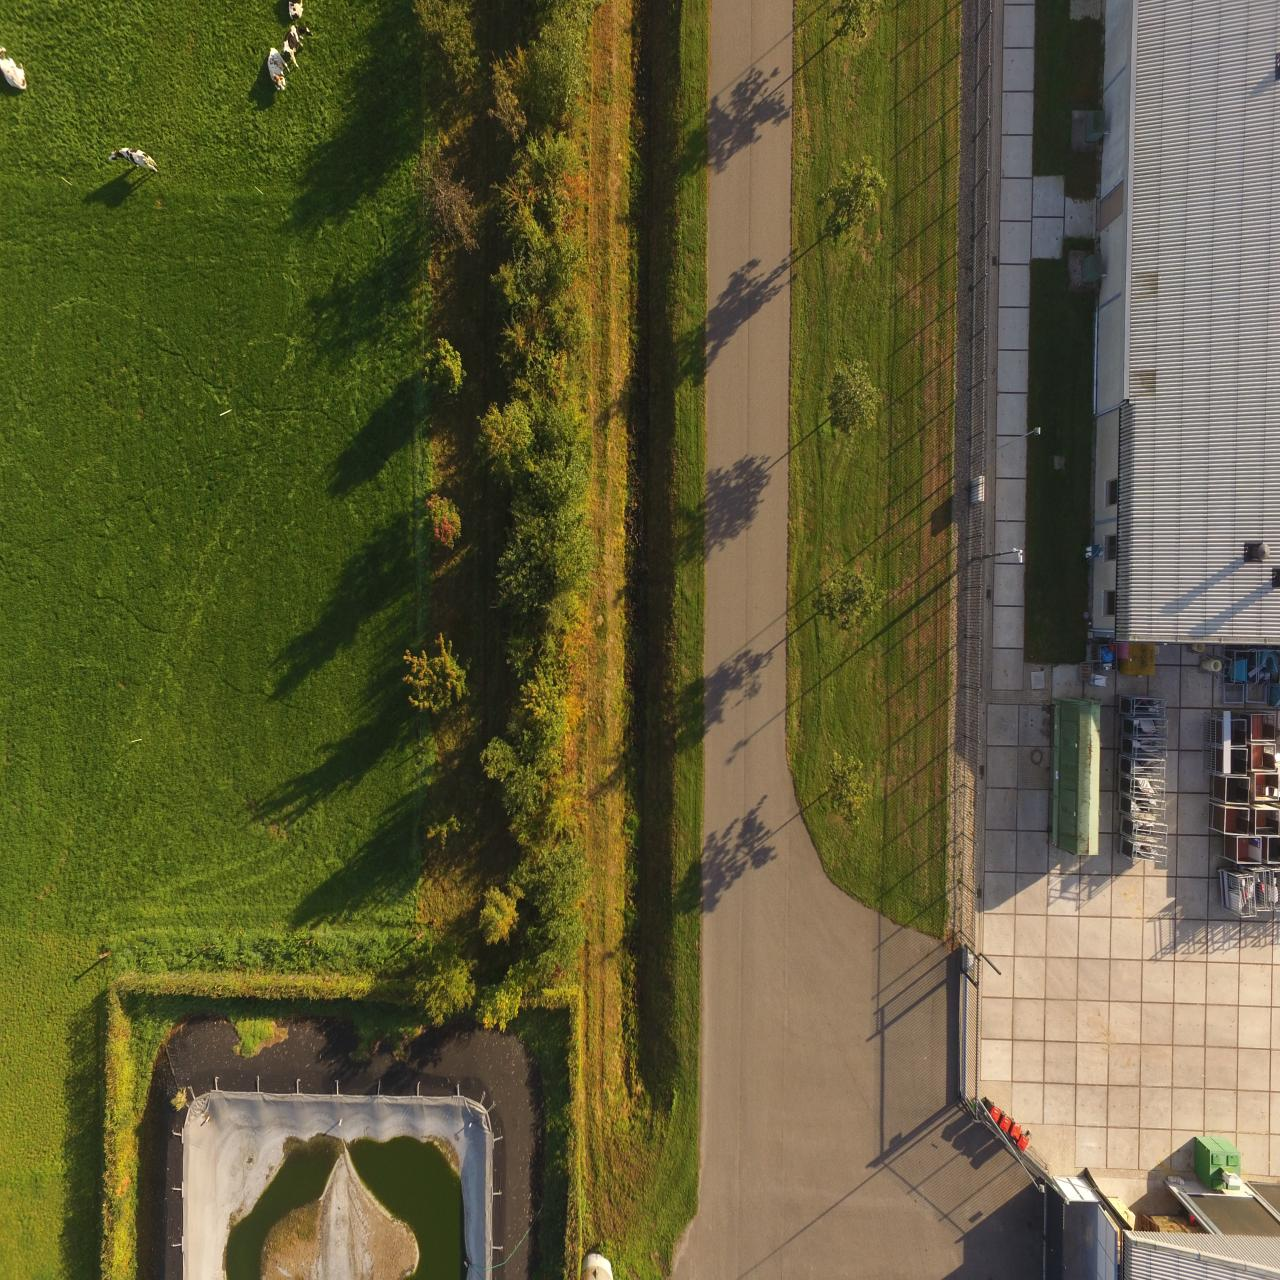cow: (278, 16, 318, 70), (104, 139, 157, 178), (0, 43, 32, 97), (261, 41, 292, 94)
